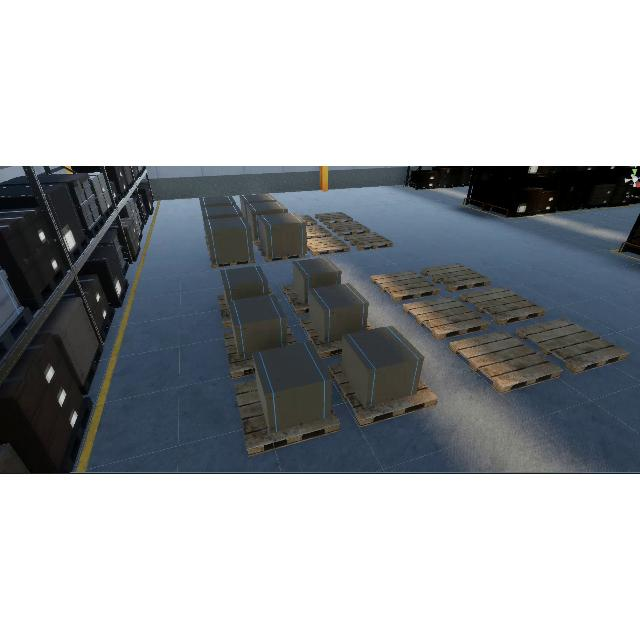wooden_pallet: (234, 379, 340, 457), (328, 362, 438, 429), (448, 330, 563, 394), (516, 318, 630, 375), (402, 296, 490, 341), (460, 286, 548, 327), (370, 271, 440, 303), (420, 263, 491, 293), (299, 316, 342, 359), (344, 232, 393, 251), (306, 236, 350, 256), (327, 220, 370, 236)
